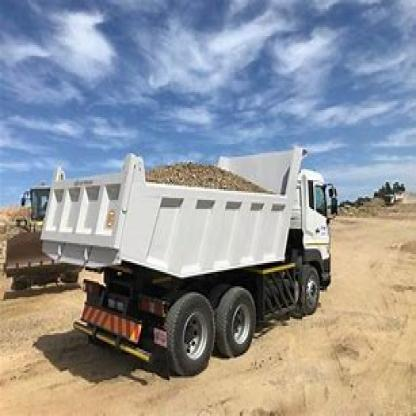dump_truck: (42, 135, 343, 376)
